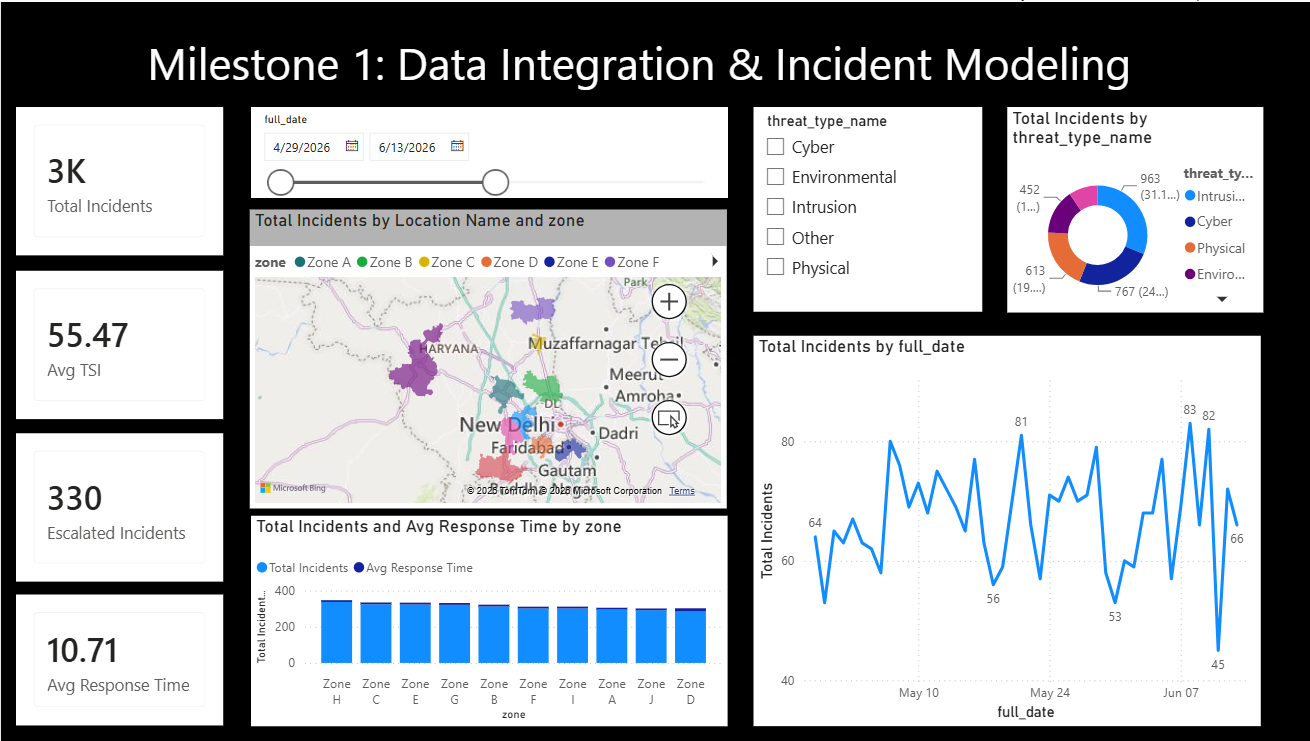

This screenshot's page, from the dashboard's own definition file:
{"tool":"powerbi","page":{"name":"Page 1","canvas":[1280,720],"ordinal":0},"visuals":[{"type":"cardVisual","fields":{"Data":["Fact_Incident.Total Incidents"]},"box":[15,101.7,200.3,143.6],"z":0},{"type":"cardVisual","fields":{"Data":["Fact_Incident.Avg TSI"]},"box":[14.5,259.4,200.3,143.6],"z":1000},{"type":"cardVisual","fields":{"Data":["Fact_Incident.Escalated Incidents"]},"box":[14.5,416.2,200.3,143.6],"z":2000},{"type":"cardVisual","fields":{"Data":["Fact_Incident.Avg Response Time"]},"box":[14.5,571.9,200.3,126.7],"z":3000},{"type":"lineChart","fields":{"Category":["Dim_Time.full_date"],"Y":["Fact_Incident.Total Incidents"]},"box":[726.3,322.1,489.8,376.4],"z":4000},{"type":"filledMap","fields":{"Series":["Dim_Geo.zone"],"Category":["Dim_Geo.Location Name"]},"box":[240.1,200.3,459.7,288.3],"z":5000},{"type":"columnChart","fields":{"Y":["Fact_Incident.Total Incidents","Fact_Incident.Avg Response Time"],"Category":["Dim_Geo.zone"]},"box":[241.3,495.8,460,202.9],"z":6000},{"type":"donutChart","fields":{"Category":["Dim_ThreatType.threat_type_name"],"Y":["Fact_Incident.Total Incidents"]},"box":[971.7,101.7,247,198],"z":7000},{"type":"slicer","fields":{"Values":["Dim_Time.full_date"]},"box":[241.3,101.3,459.7,86.9],"z":8000},{"type":"slicer","fields":{"Values":["Dim_ThreatType.threat_type_name"]},"box":[726.3,101.3,220.8,197.9],"z":9000},{"type":"textbox","box":[75,23.8,1082.5,68.8],"z":10000}]}

Visuals, with their boxes in screenshot pixels (x1, y1, x2, y2), scaled from the page's 1280x720 canvas onto the 1310x741 screenshot:
cardVisual - Fact_Incident.Total Incidents: left=15, top=105, right=220, bottom=252
cardVisual - Fact_Incident.Avg TSI: left=15, top=267, right=220, bottom=415
cardVisual - Fact_Incident.Escalated Incidents: left=15, top=428, right=220, bottom=576
cardVisual - Fact_Incident.Avg Response Time: left=15, top=589, right=220, bottom=719
lineChart - Dim_Time.full_date x Fact_Incident.Total Incidents: left=743, top=331, right=1245, bottom=719
filledMap - Dim_Geo.zone x Dim_Geo.Location Name: left=246, top=206, right=716, bottom=503
columnChart - Fact_Incident.Total Incidents x Fact_Incident.Avg Response Time: left=247, top=510, right=718, bottom=719
donutChart - Dim_ThreatType.threat_type_name x Fact_Incident.Total Incidents: left=994, top=105, right=1247, bottom=308
slicer - Dim_Time.full_date: left=247, top=104, right=717, bottom=194
slicer - Dim_ThreatType.threat_type_name: left=743, top=104, right=969, bottom=308
textbox: left=77, top=24, right=1185, bottom=95
